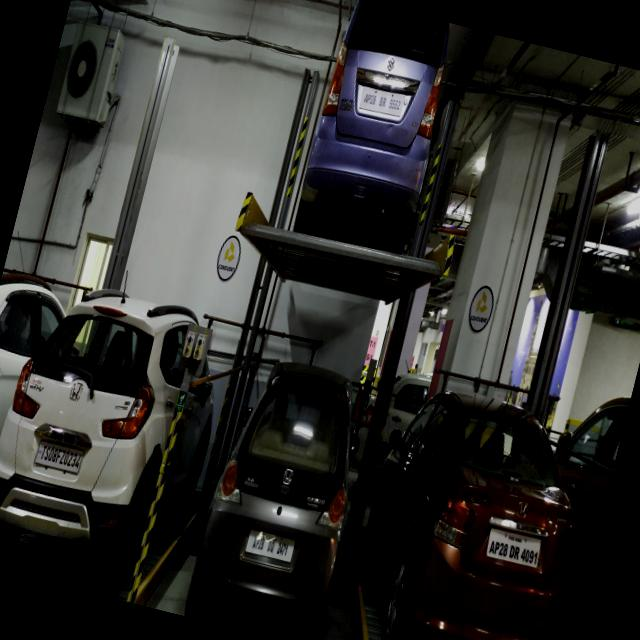car: (199, 403, 359, 629), (0, 352, 161, 572), (386, 458, 568, 640), (306, 26, 456, 234)
